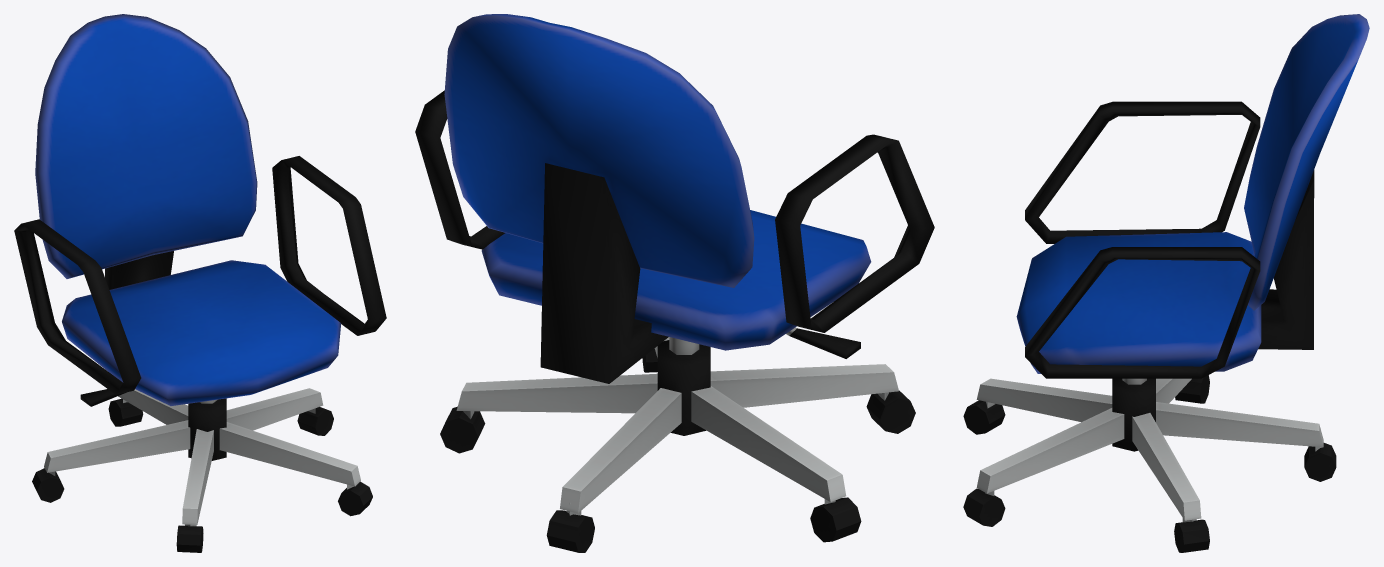
File: sb_obj_ModernCity040_officechair_b.fbx
The picture shows the model from 3 angles, left to right: view 1: azimuth 30°, elevation 25°; view 2: azimuth 150°, elevation 25°; view 3: azimuth 270°, elevation 25°; orthographic projection. The views are drawn at different scales.
Visible parts, largest first — view 1: sb_obj_ModernCity040_officechair_b; view 2: sb_obj_ModernCity040_officechair_b; view 3: sb_obj_ModernCity040_officechair_b.
Boxes of the visible parts, x1,y1,x2,y2 form: sb_obj_ModernCity040_officechair_b: (14, 14, 386, 552); sb_obj_ModernCity040_officechair_b: (415, 14, 934, 552); sb_obj_ModernCity040_officechair_b: (963, 14, 1369, 552).
Size of the model in its own units: 0.6385 by 0.8046 by 0.6612.
Materials: 1 (1 with a texture image).
